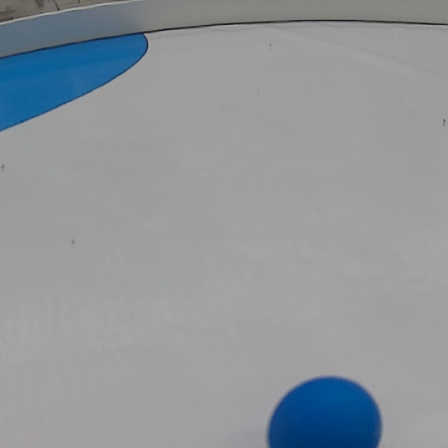blue: (265, 374, 385, 447)
blue_base: (0, 30, 151, 134)
